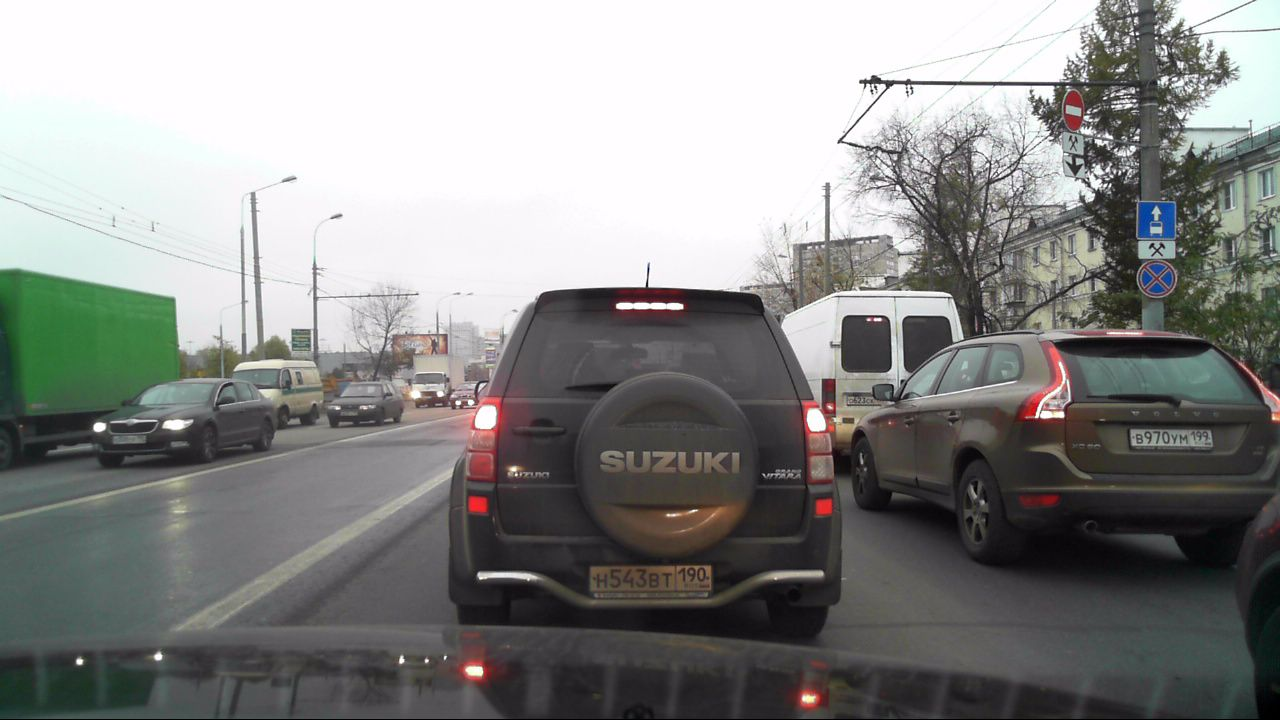No Parking: (1135, 261, 1177, 301)
